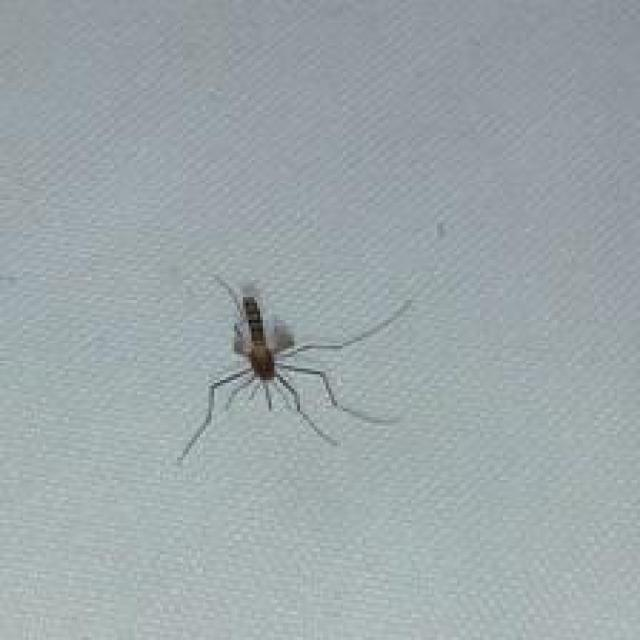Culex: (174, 271, 420, 463)
